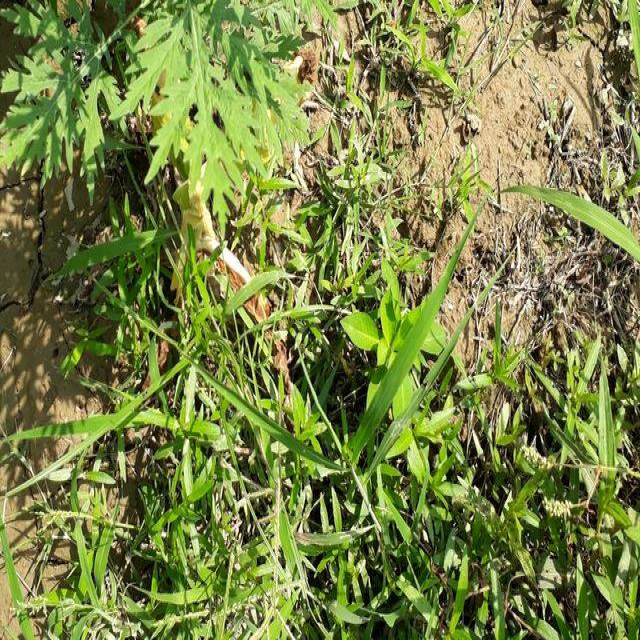weed: (82, 276, 640, 630)
